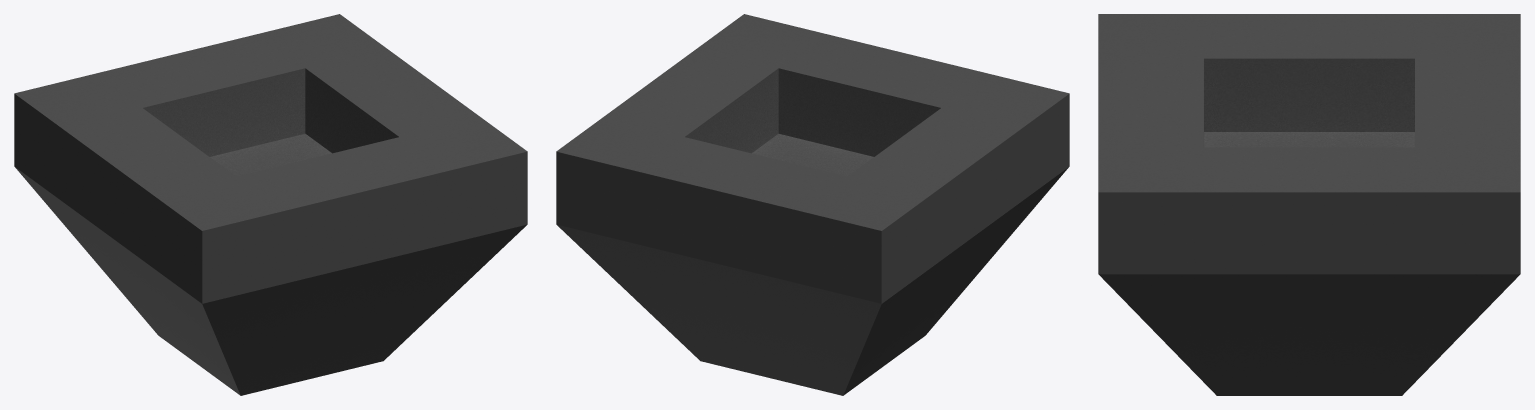
File: FeatureInspectionArea.fbx
3 renders of one model, left to right at view 1: azimuth 30°, elevation 25°; view 2: azimuth 150°, elevation 25°; view 3: azimuth 270°, elevation 25°, orthographic. The views are drawn at different scales.
Parts seen in each view (by area): view 1: Cube; view 2: Cube; view 3: Cube.
Boxes of the visible parts, x1,y1,x2,y2 form: Cube: [14, 14, 527, 395]; Cube: [556, 14, 1069, 395]; Cube: [1098, 14, 1520, 395].
Bounding box in the file's own units: 200 × 200 × 133.
Materials: 1 (1 with a texture image).
